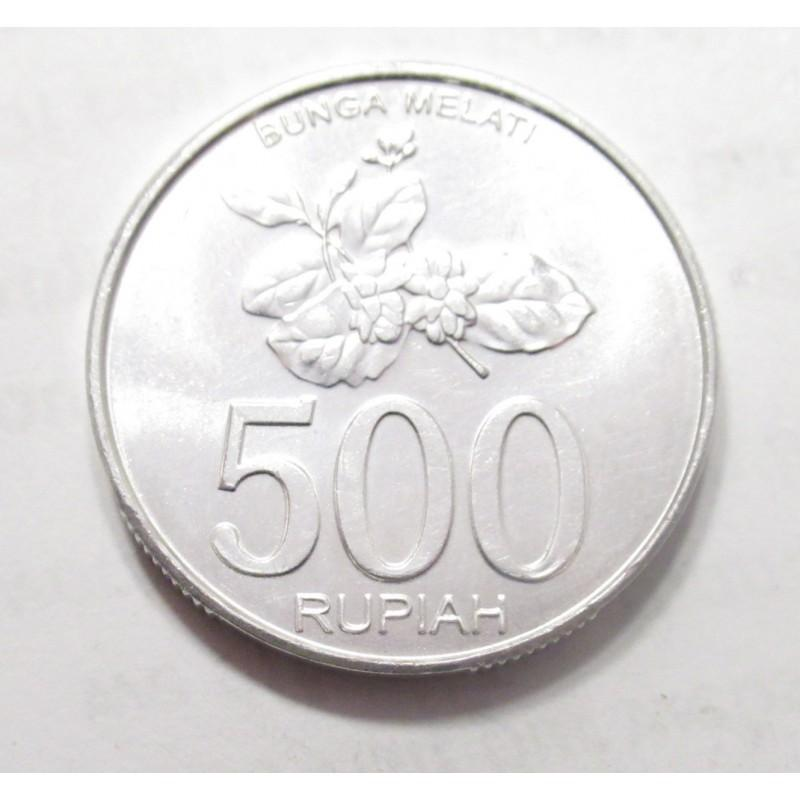coin_500_e2003: (82, 54, 723, 683)
